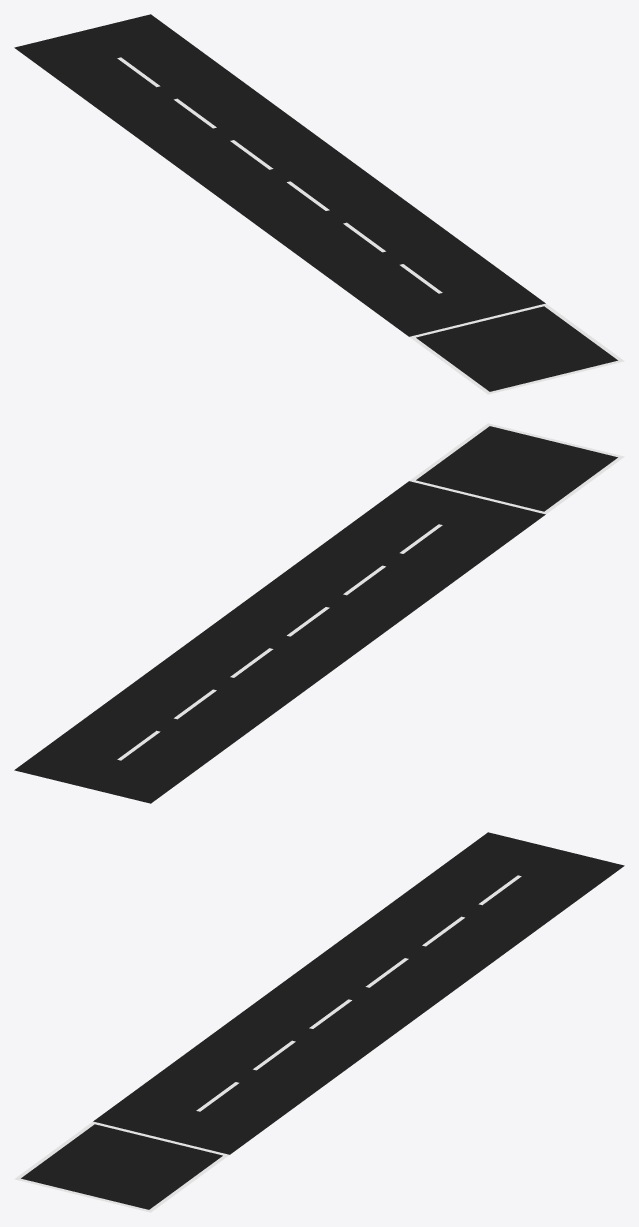
Rendered from Asphalt_03.fbx.
3 renders of one model, top to bottom at view 1: azimuth 30°, elevation 25°; view 2: azimuth 150°, elevation 25°; view 3: azimuth 330°, elevation 25°, orthographic.
Parts seen in each view (by area): view 1: Asphalt3; view 2: Asphalt3; view 3: Asphalt3.
Boxes of the visible parts, x1=… form: Asphalt3: x1=14, y1=14, x2=624, y2=394; Asphalt3: x1=14, y1=423, x2=624, y2=803; Asphalt3: x1=14, y1=832, x2=624, y2=1212.
Size of the model in its own units: 10 by 1.67e-16 by 60.
1 material, 1 textured.
